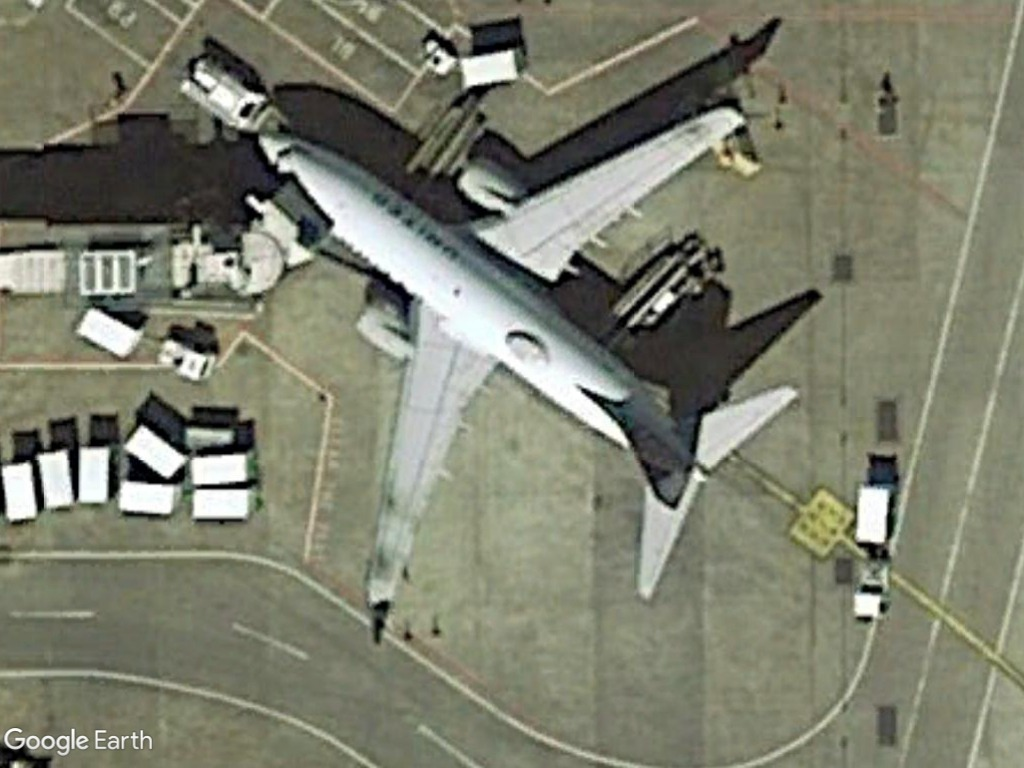airliner: (249, 97, 808, 644)
